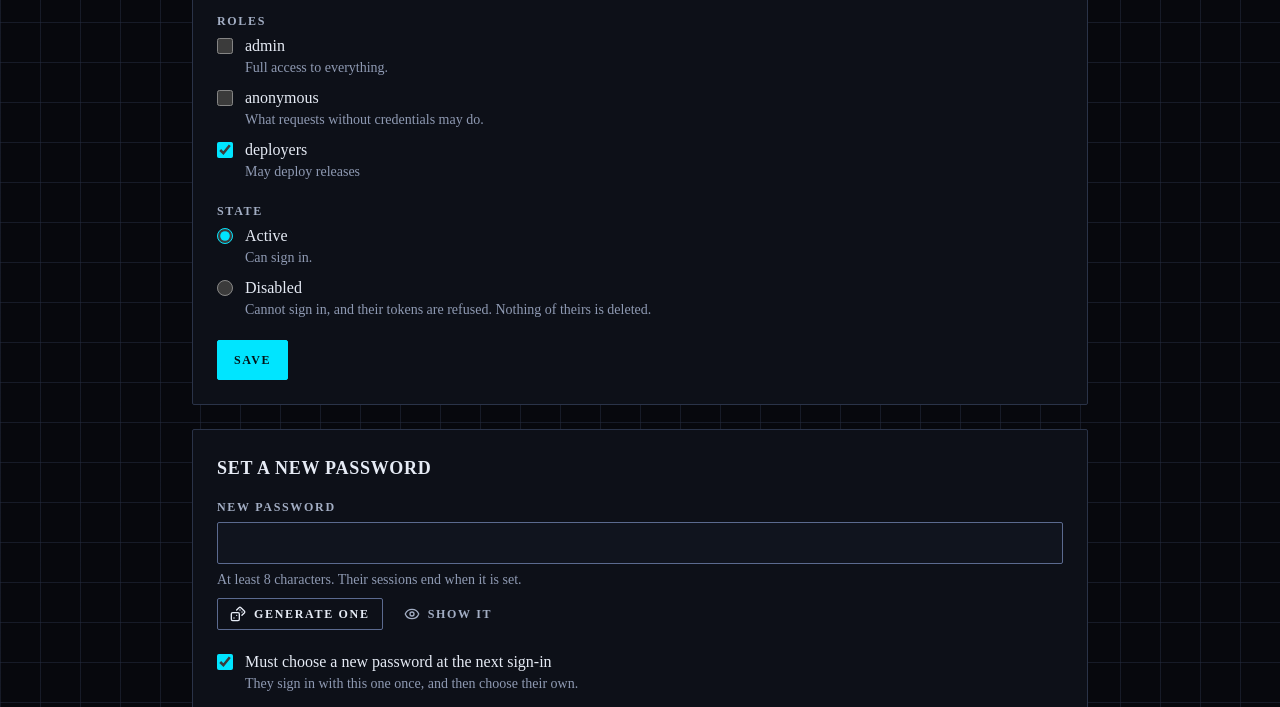
Test: one user › says what the server will not have, as it says it
(page scrolled)
Check: the checkbox labelled "deployers" is shown, box [217, 142, 233, 158]
Click the button "Save" at (253, 360), box [217, 340, 288, 380]
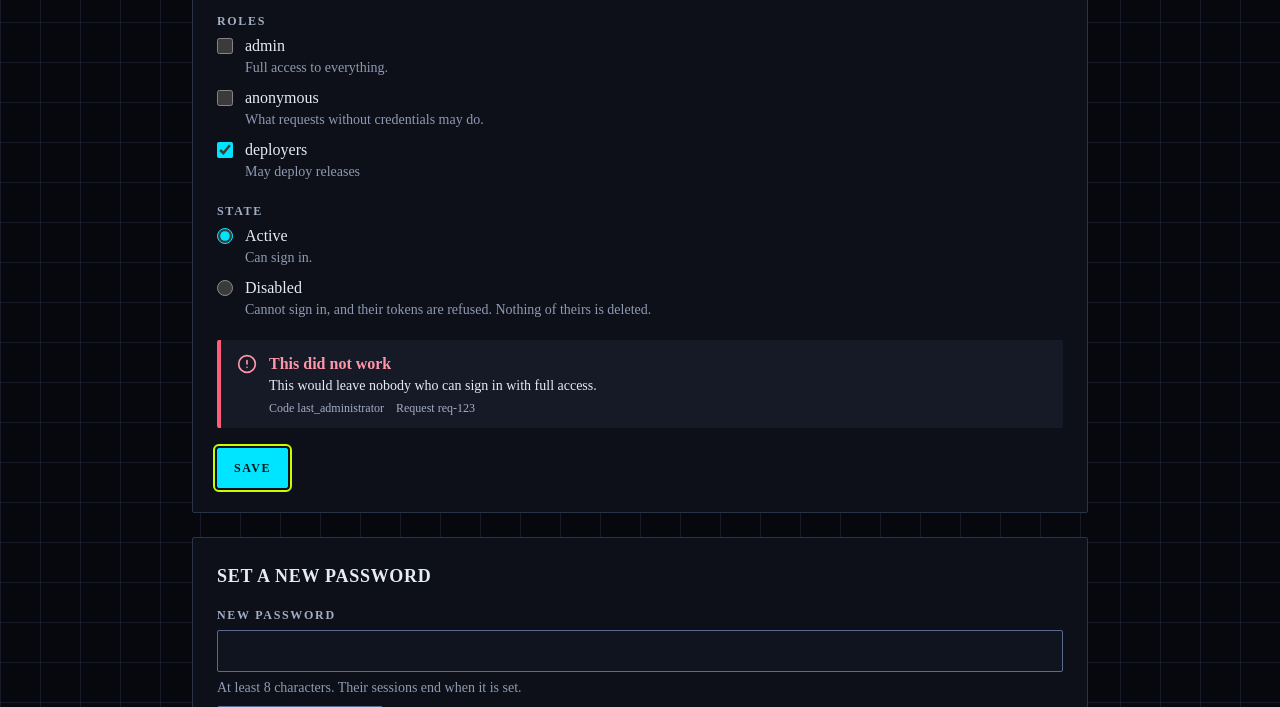
Check: the message shows "This would leave nobody who can sign in with full access.", box [269, 378, 597, 393]
